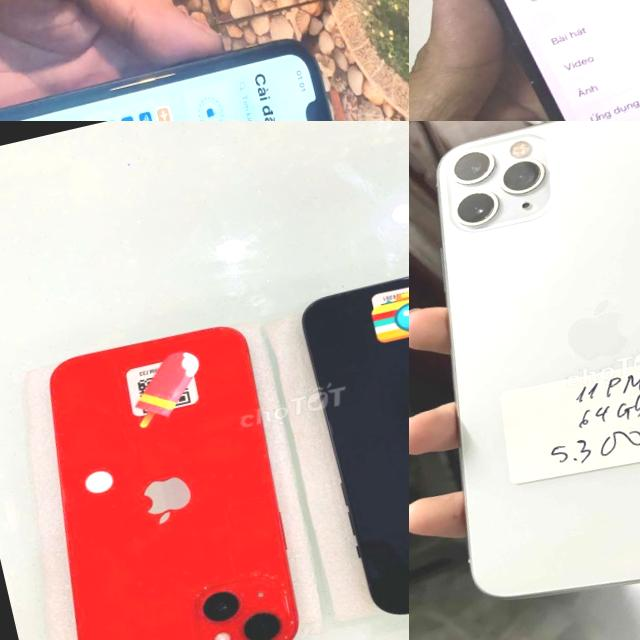gen_11: (409, 121, 640, 632), (0, 39, 331, 121)
gen_12_13: (409, 0, 640, 121)
gen_14: (16, 314, 328, 640), (287, 246, 409, 637)
